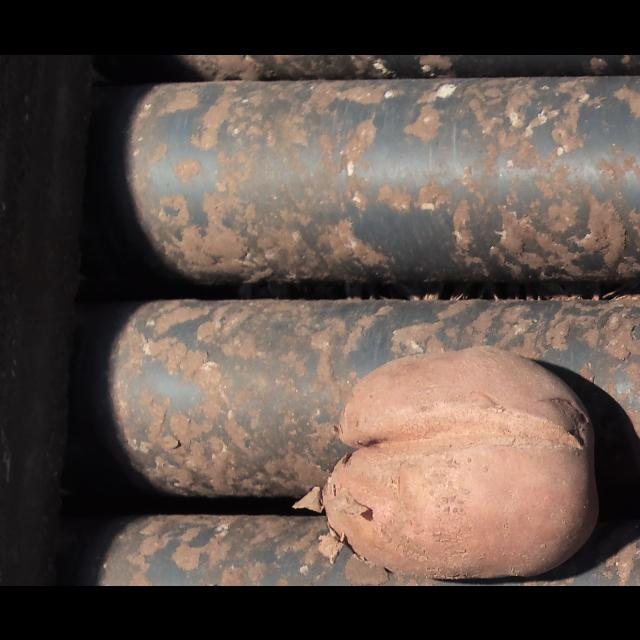Diseased-fungal potato: (284, 322, 618, 580)
